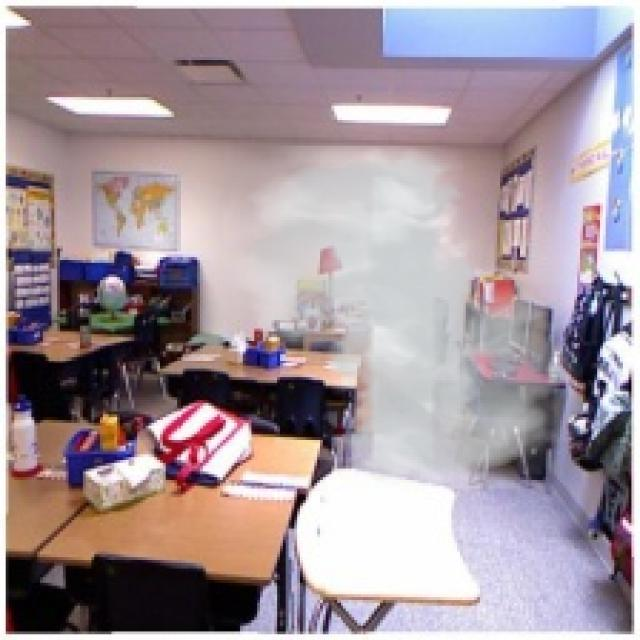Smoke: (223, 146, 583, 488)
